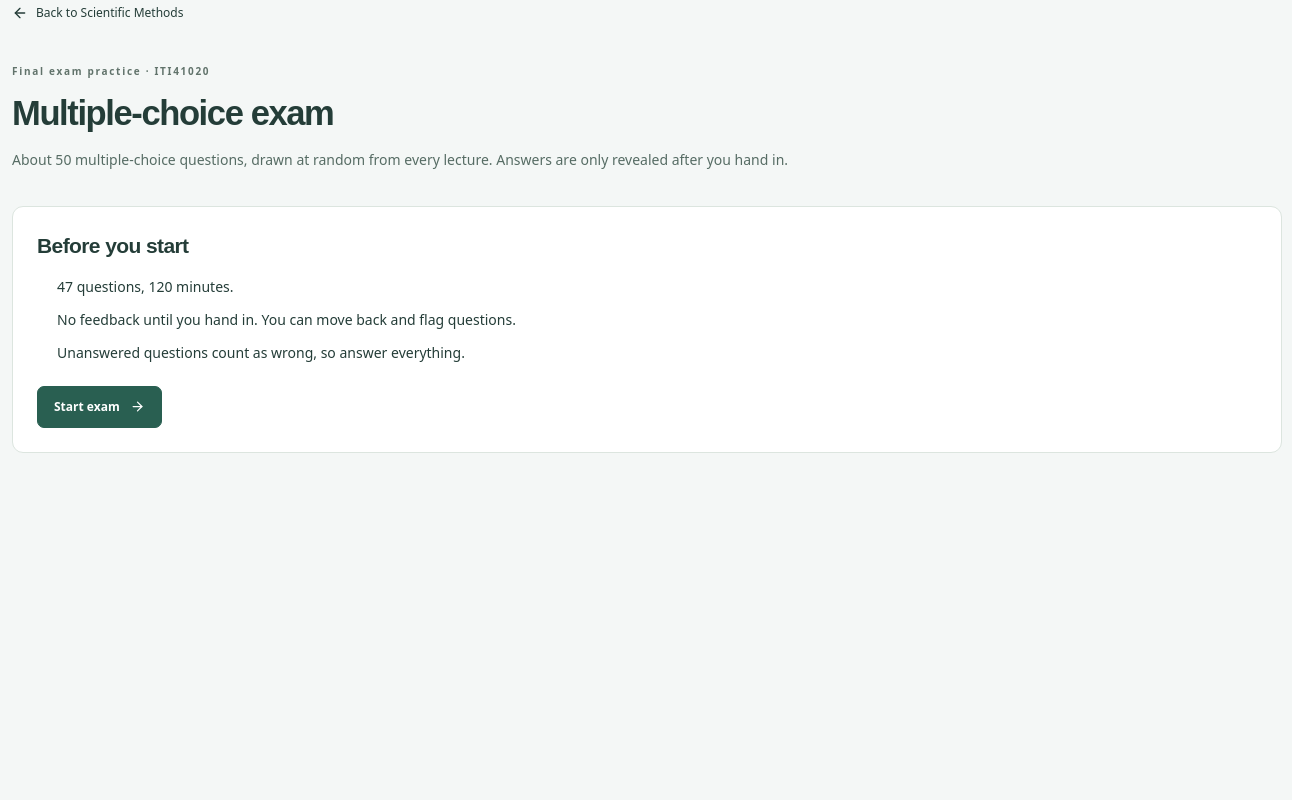
it: runs a timed multiple-choice exam and shows results only after hand in
Click the button "Start exam" at (99, 407), box [37,386,162,428]
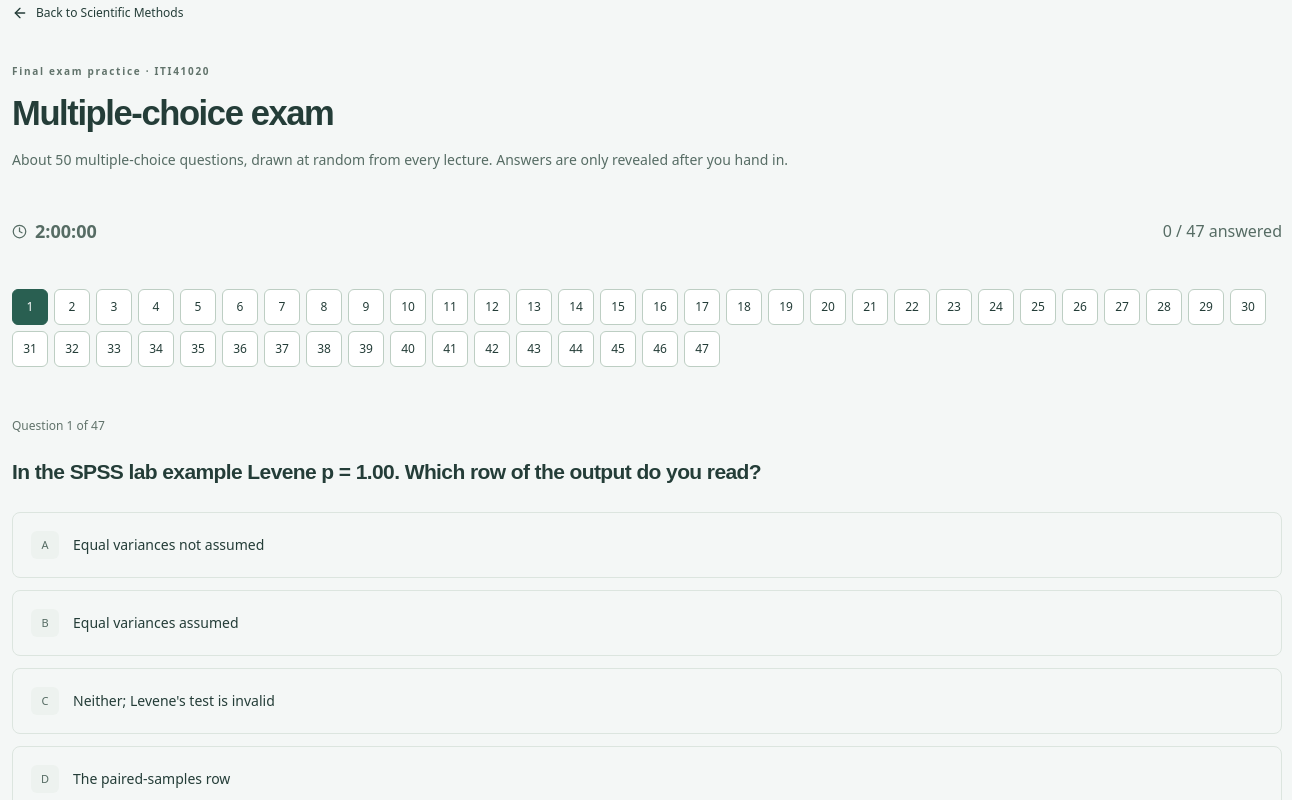
Expected: the element showing "2:00:00" is shown, [12,216,97,247]
Expected: the text "0 / 47 answered" is shown, [1163,218,1282,245]
Click the radio button labelled "A Equal variances not assumed" at (169, 545), box [12,512,1282,578]
(page scrolled)
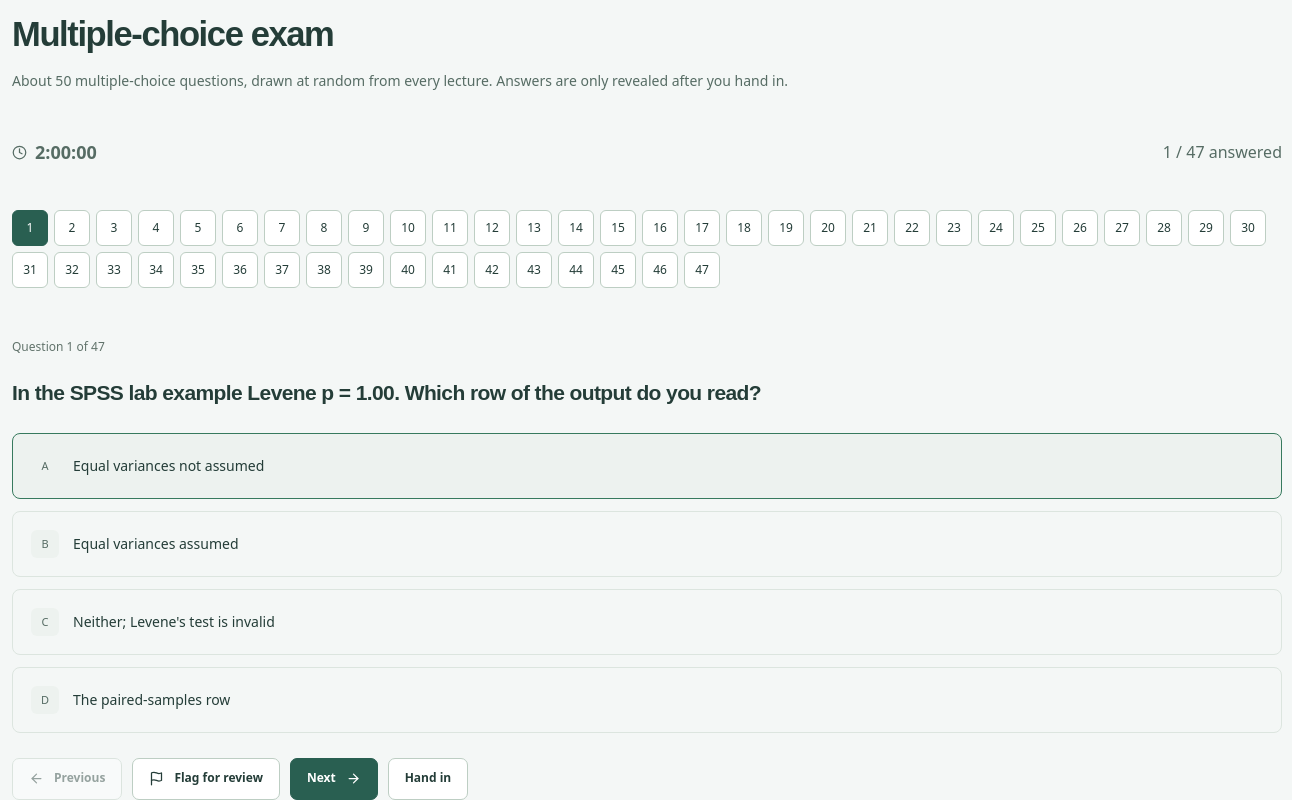
Expected: the text "Correct:" is not shown
Expected: the text "1 / 47 answered" is shown, [1163,139,1282,166]
Click the button "Hand in" at (428, 779), box [388,758,468,799]
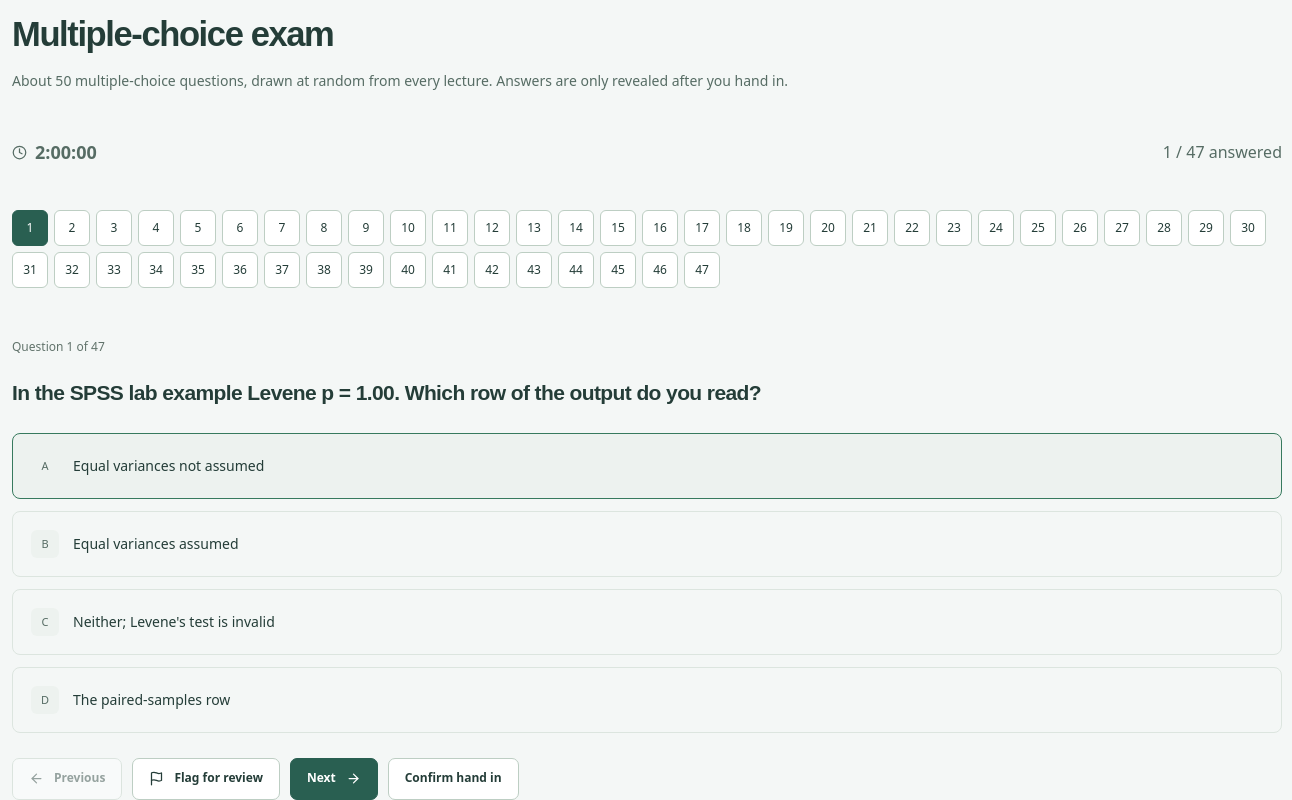
Click the button "Confirm hand in" at (453, 779), box [388,758,519,799]
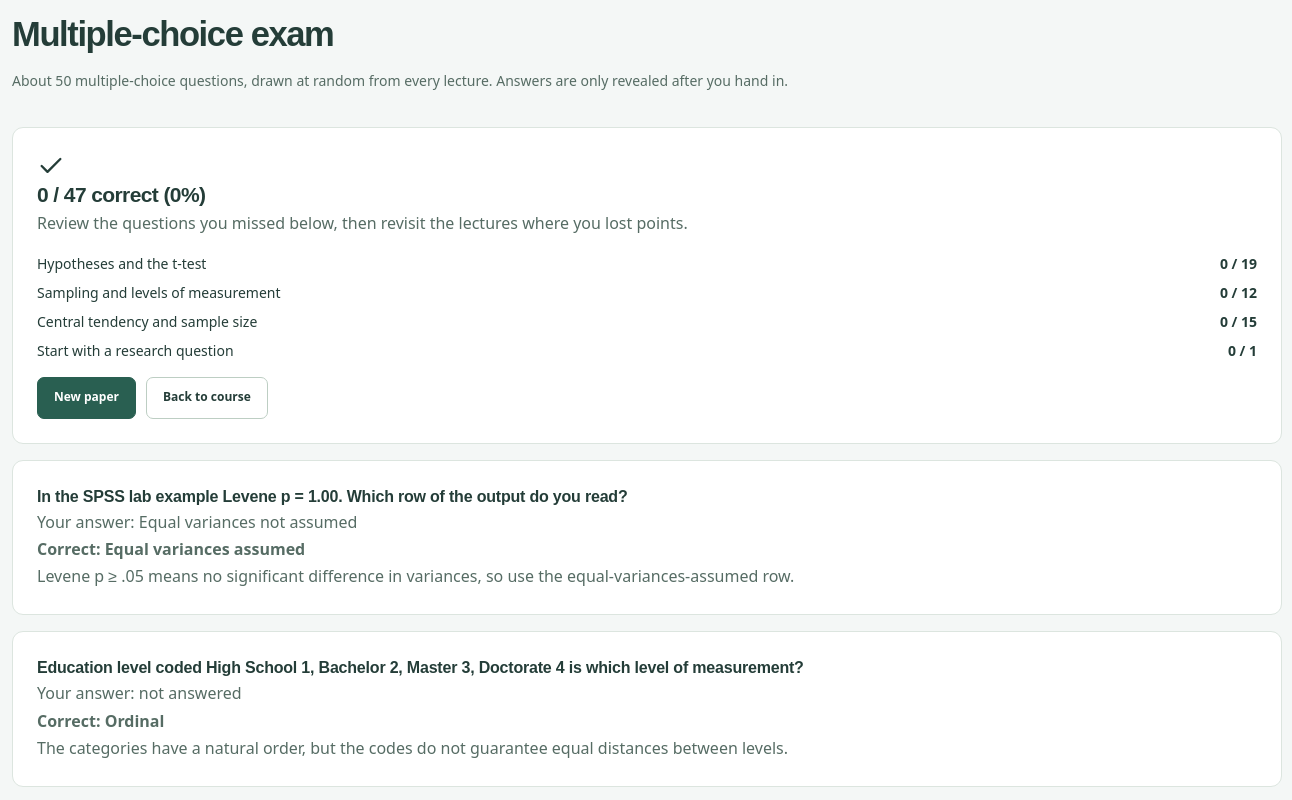
Expected: the heading "0 / 47 correct (0%)" is shown, [37,183,205,206]
